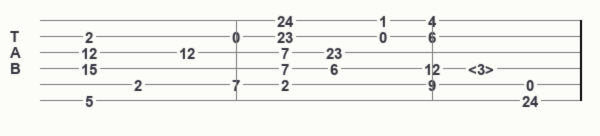0: (232, 29, 244, 44), (379, 29, 391, 44), (526, 77, 538, 92)
1: (379, 13, 391, 28)
12: (81, 45, 101, 60), (179, 45, 199, 60), (424, 61, 444, 76)
15: (81, 61, 101, 76)
2: (85, 29, 97, 44), (134, 77, 146, 92), (281, 77, 293, 92)
23: (277, 29, 297, 44), (326, 45, 346, 60)
24: (277, 13, 297, 28), (522, 93, 542, 108)
4: (428, 13, 440, 28)
5: (85, 93, 97, 108)
6: (330, 61, 342, 76), (428, 29, 440, 44)
7: (232, 77, 244, 92), (281, 61, 293, 76), (281, 45, 293, 60)
9: (428, 77, 440, 92)
harmonic: (468, 61, 498, 76)
